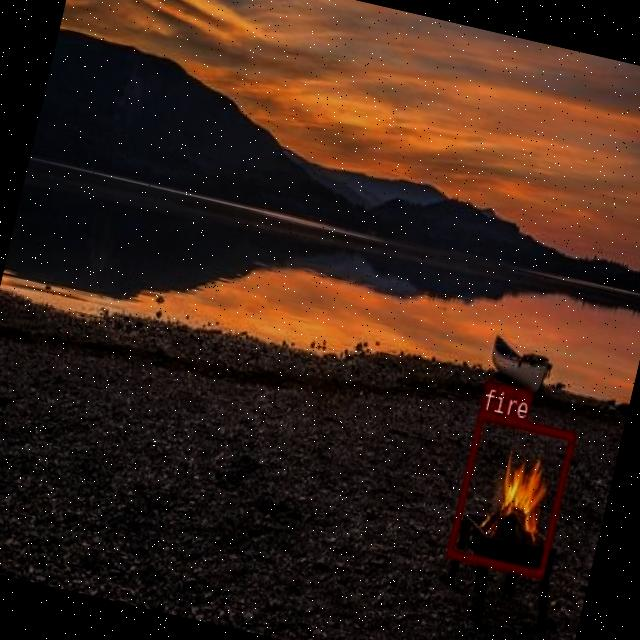fire: (446, 410, 574, 576)
